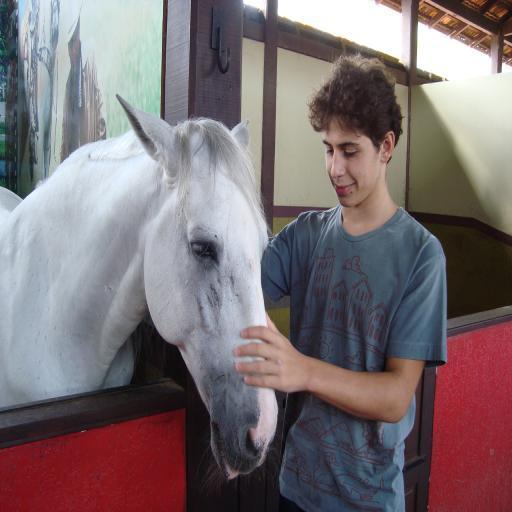horse: (0, 92, 280, 484)
